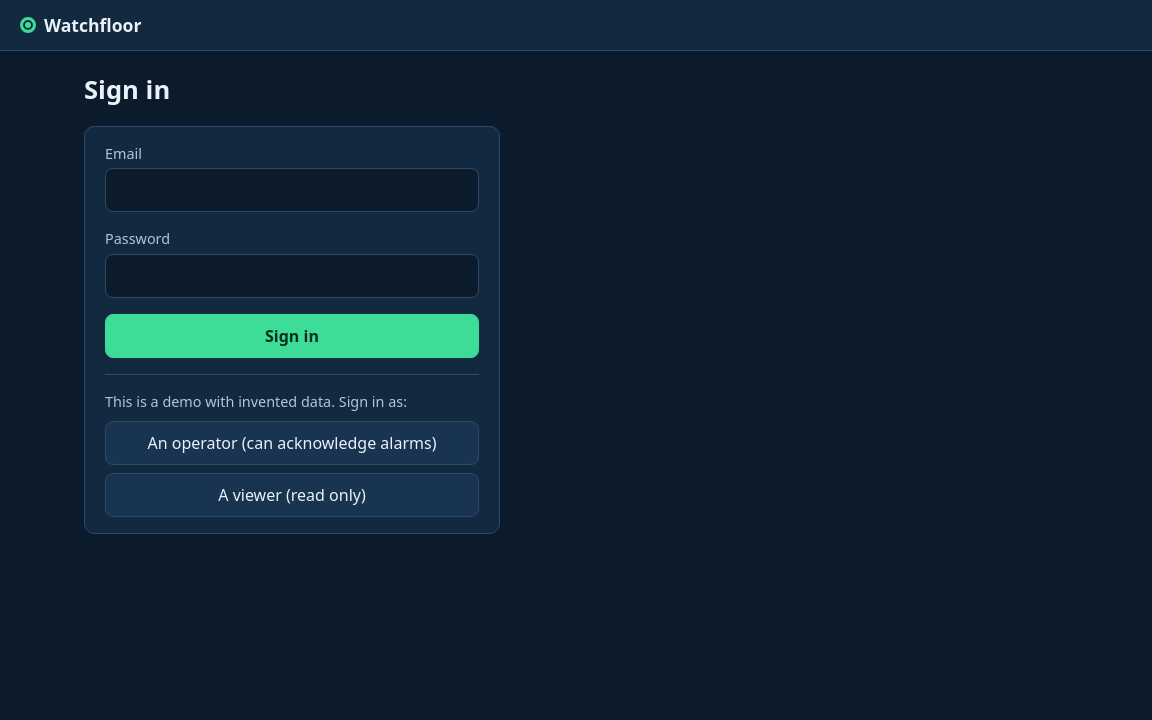
Test: signing in › says when the password is wrong and stays on the page
Type "operator@example.com" into the field labelled "Email".
click(292, 190); type("operator@example.com")  # box [105,168,479,212]
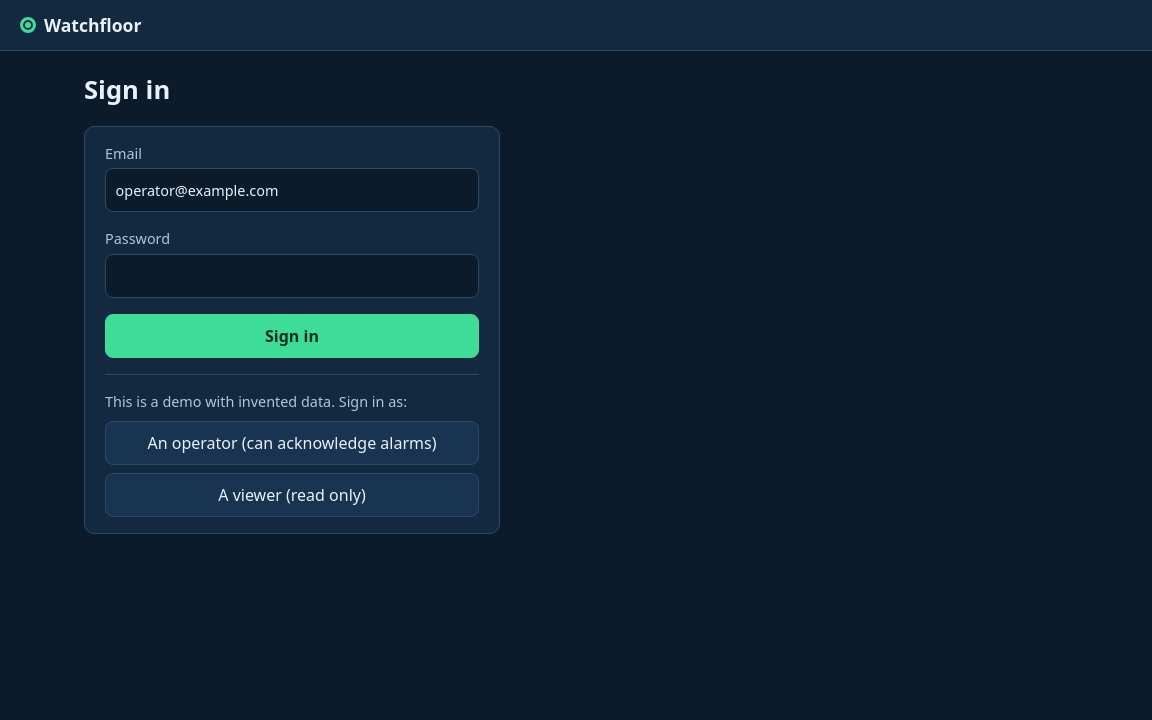
Type "wrong" into the password field labelled "Password".
click(292, 276); type("wrong")  # box [105,254,479,298]
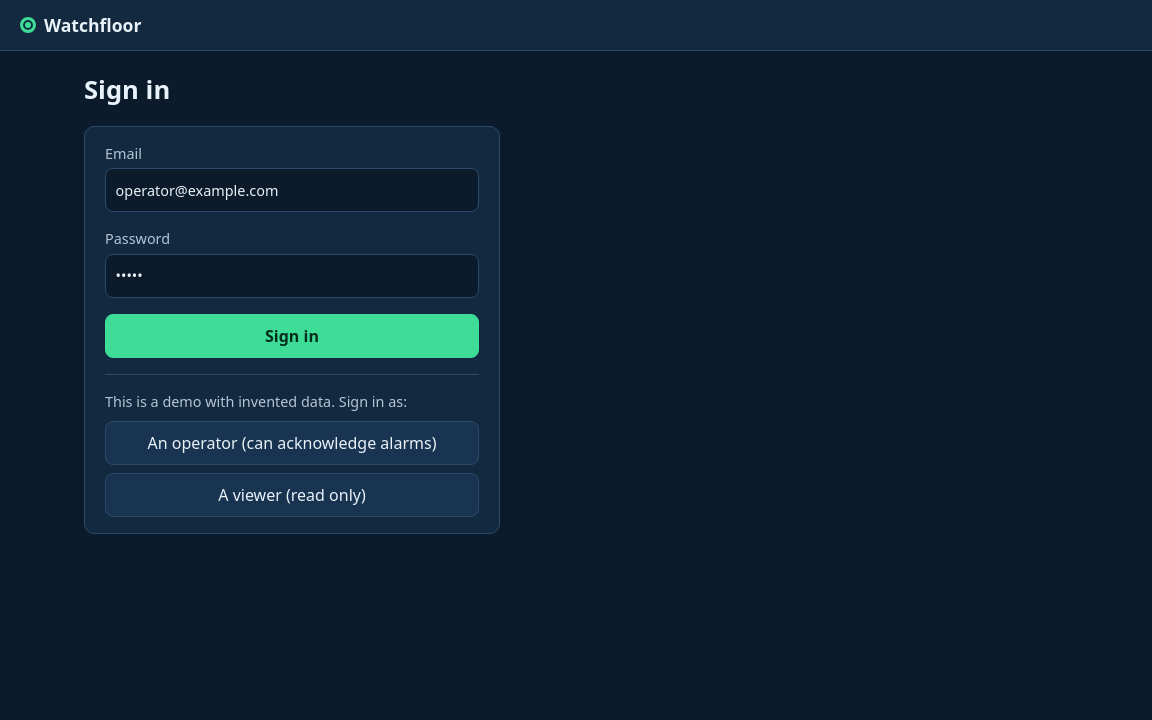
Click the button "Sign in".
click(292, 336)  # box [105,314,479,358]
Wait 100 ms
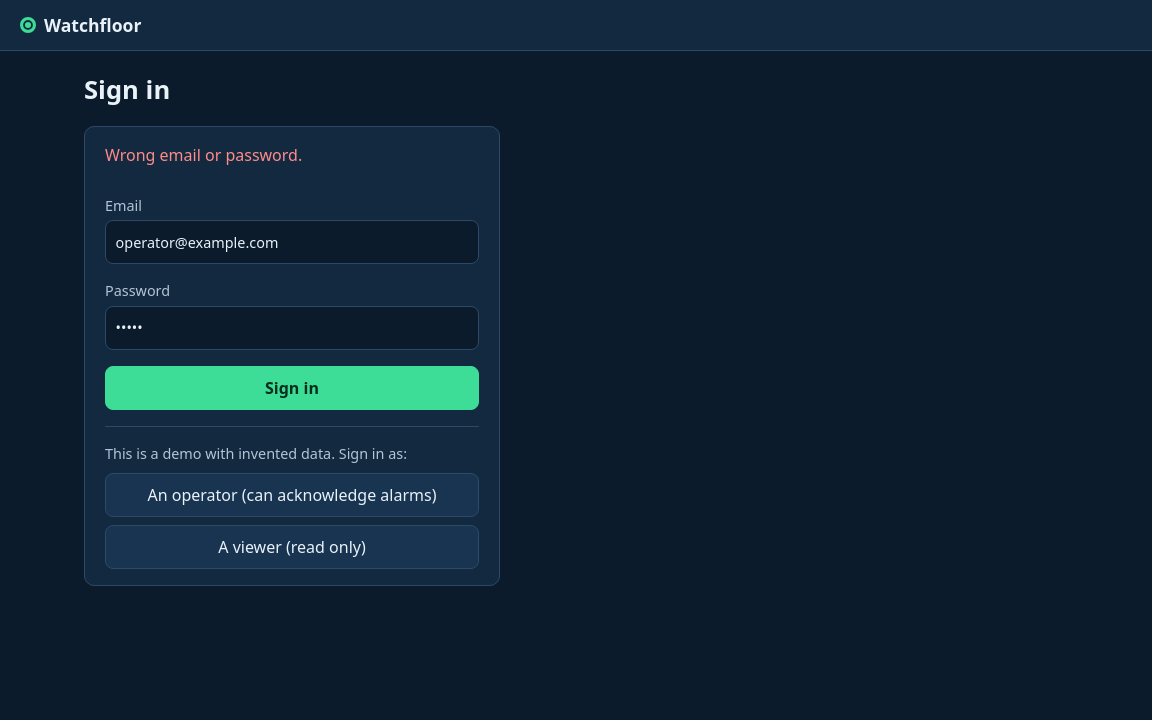
Check: the message reads "Wrong email or password.", box [105,144,302,166]
